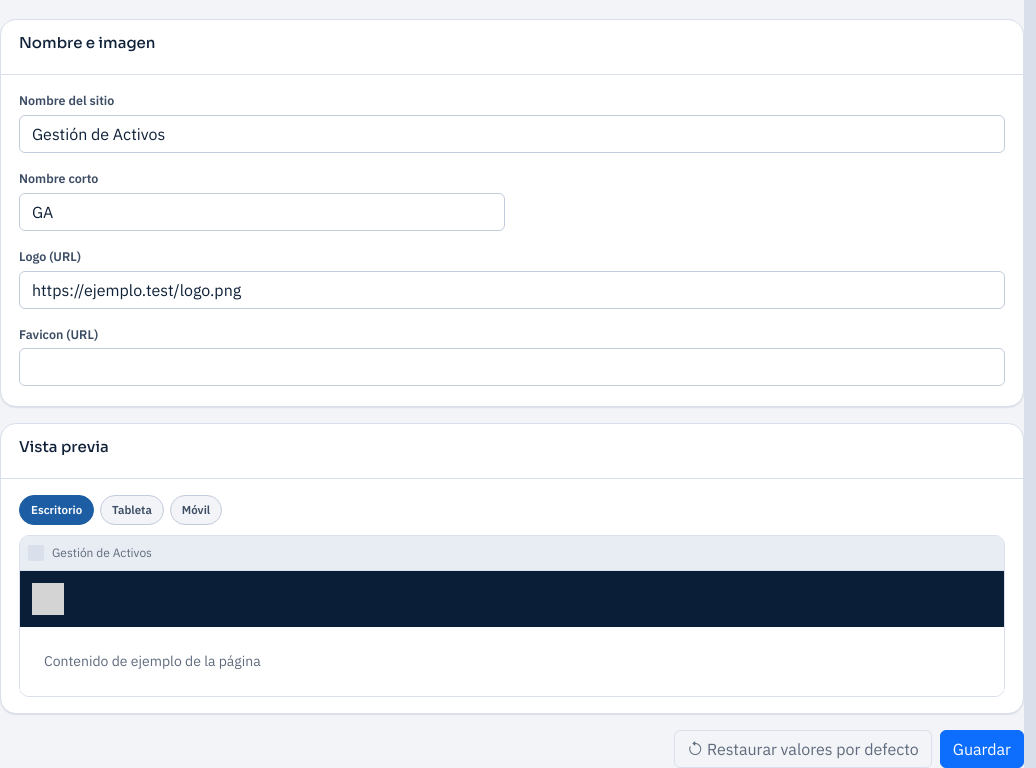
Scenario: La pestaña de identidad › si el servidor rechaza el tema, lo dice con su motivo
(page scrolled)
Expected: the field labelled "Nombre del sitio" is shown, [19,115,1005,153]
What coordinates should you click on to do the following:
click the button "Guardar"
I would click on:
 (982, 749)
Its box is [940,730,1024,767].
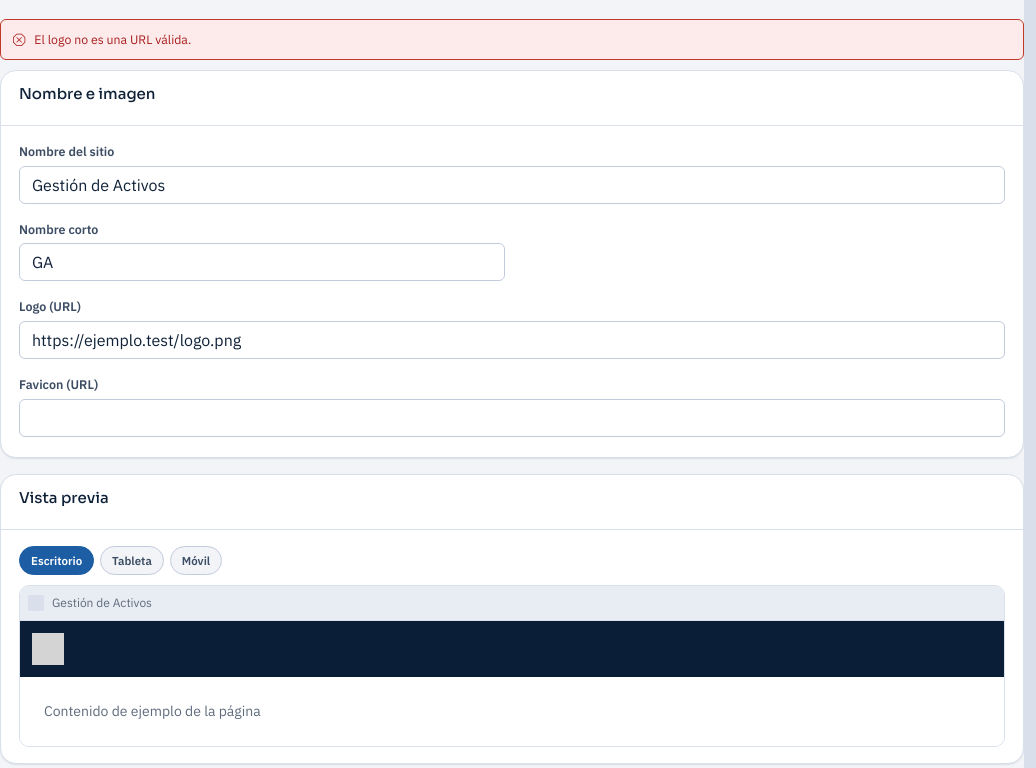
Expected: the text "El logo no es una URL válida." is shown, [0,19,1024,60]
